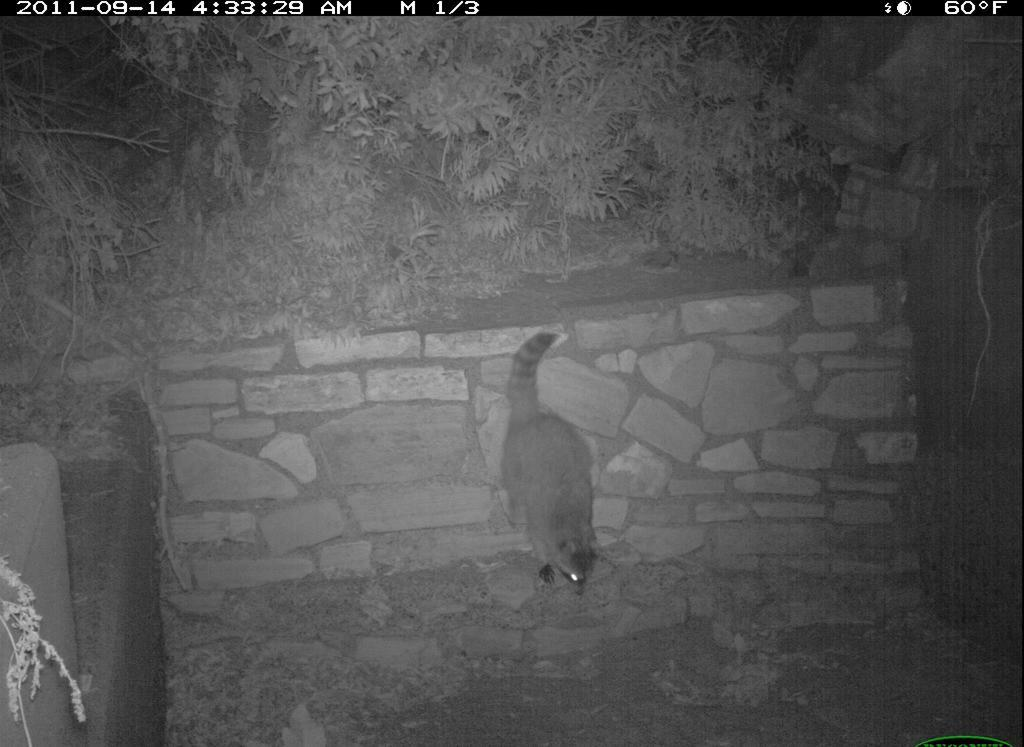raccoon: (500, 324, 630, 607)
